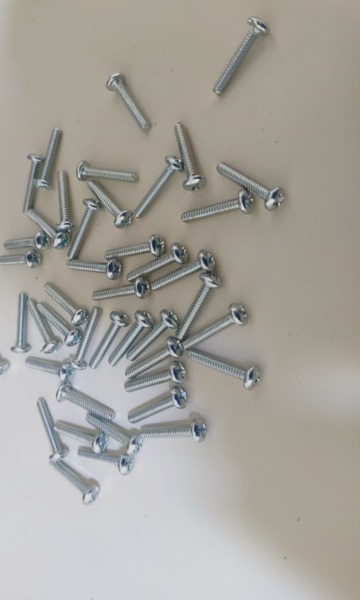longscrew: (213, 20, 265, 99), (216, 159, 288, 212), (184, 306, 247, 353), (135, 156, 182, 219), (183, 191, 254, 231), (153, 254, 219, 297), (105, 73, 152, 132), (106, 312, 155, 368), (177, 275, 220, 337), (191, 350, 261, 388), (127, 312, 177, 365), (88, 307, 130, 369), (125, 248, 187, 286), (125, 338, 181, 380), (46, 461, 100, 502), (70, 304, 103, 369), (176, 120, 206, 191), (85, 415, 140, 453), (130, 390, 186, 427), (62, 203, 98, 260), (36, 400, 69, 461), (89, 184, 133, 229), (34, 128, 64, 193), (59, 387, 116, 421), (36, 302, 80, 346), (26, 296, 59, 354), (142, 417, 207, 446), (73, 448, 142, 474), (30, 204, 68, 251), (46, 281, 86, 325), (55, 418, 105, 453), (91, 279, 152, 306), (104, 236, 166, 262), (18, 154, 44, 213), (124, 367, 187, 391), (79, 163, 139, 184), (9, 292, 29, 353), (56, 168, 74, 231), (3, 232, 49, 256), (0, 250, 42, 272), (25, 361, 73, 378), (66, 260, 122, 274), (0, 330, 7, 374)
